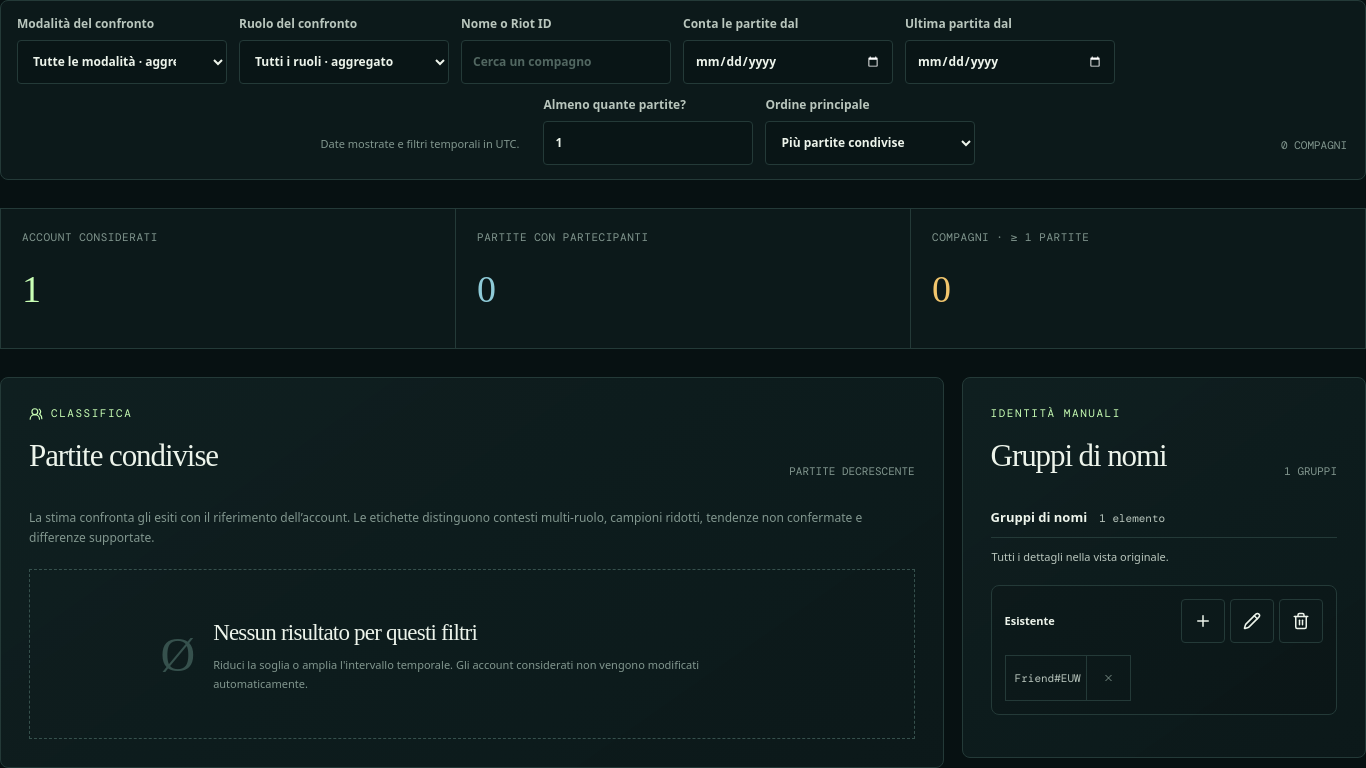
Test: conferme dei gruppi › conserva il modulo per rename dopo200 incompleto e riprova solo su richiesta
The image size is (1366, 768).
(page scrolled)
Click the button named "Rinomina Esistente": (1252, 621) [1230, 599, 1274, 643]
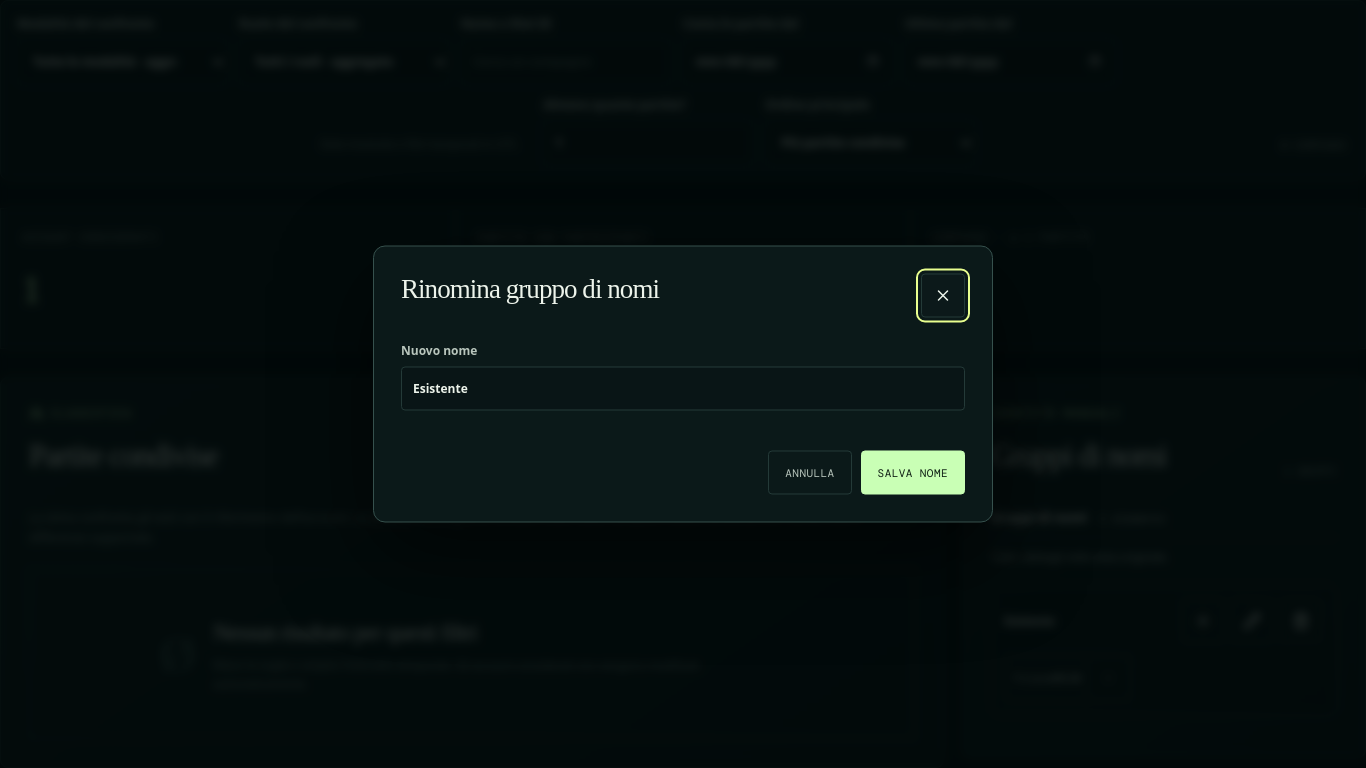
Replace the text in the field labelled "Nuovo nome" with "Nome aggiornato": (683, 388) [401, 366, 965, 410]
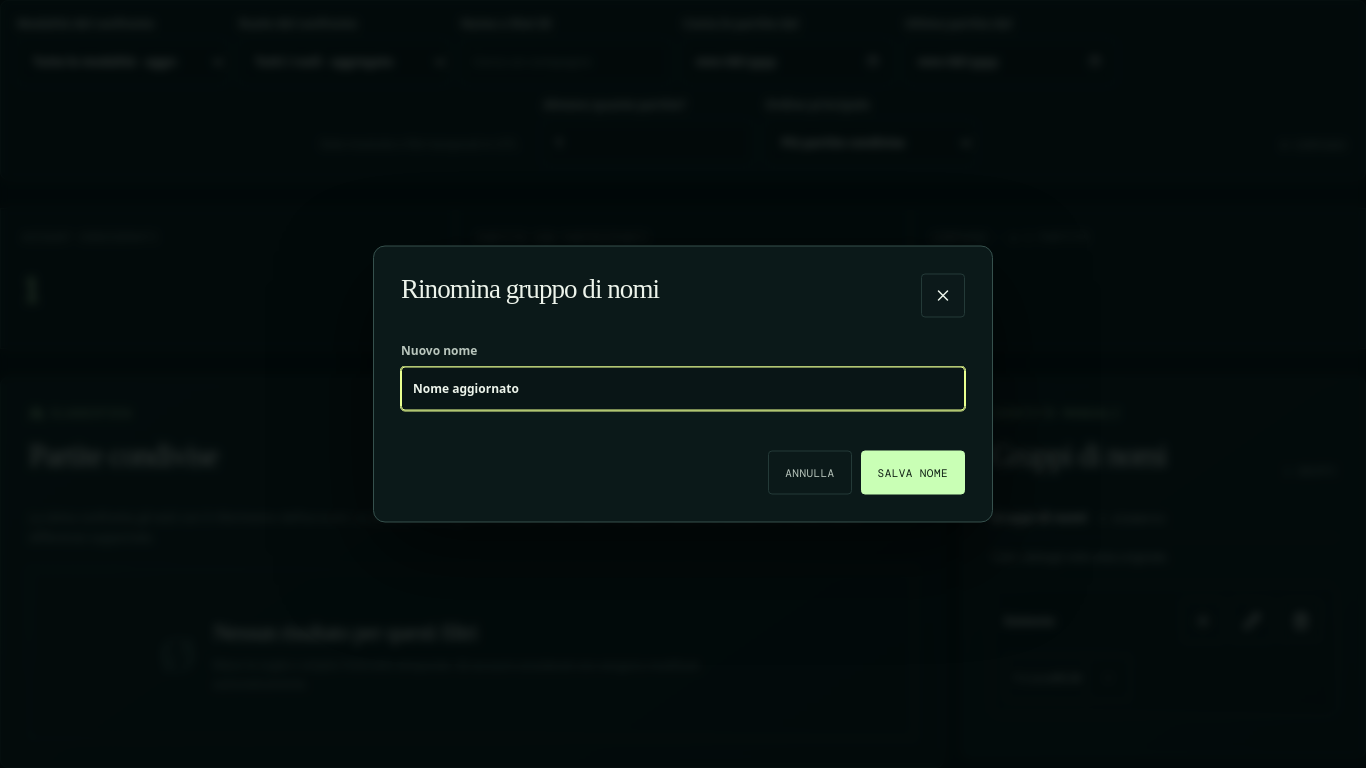
Click the button "Salva nome": (913, 472) [861, 450, 965, 494]
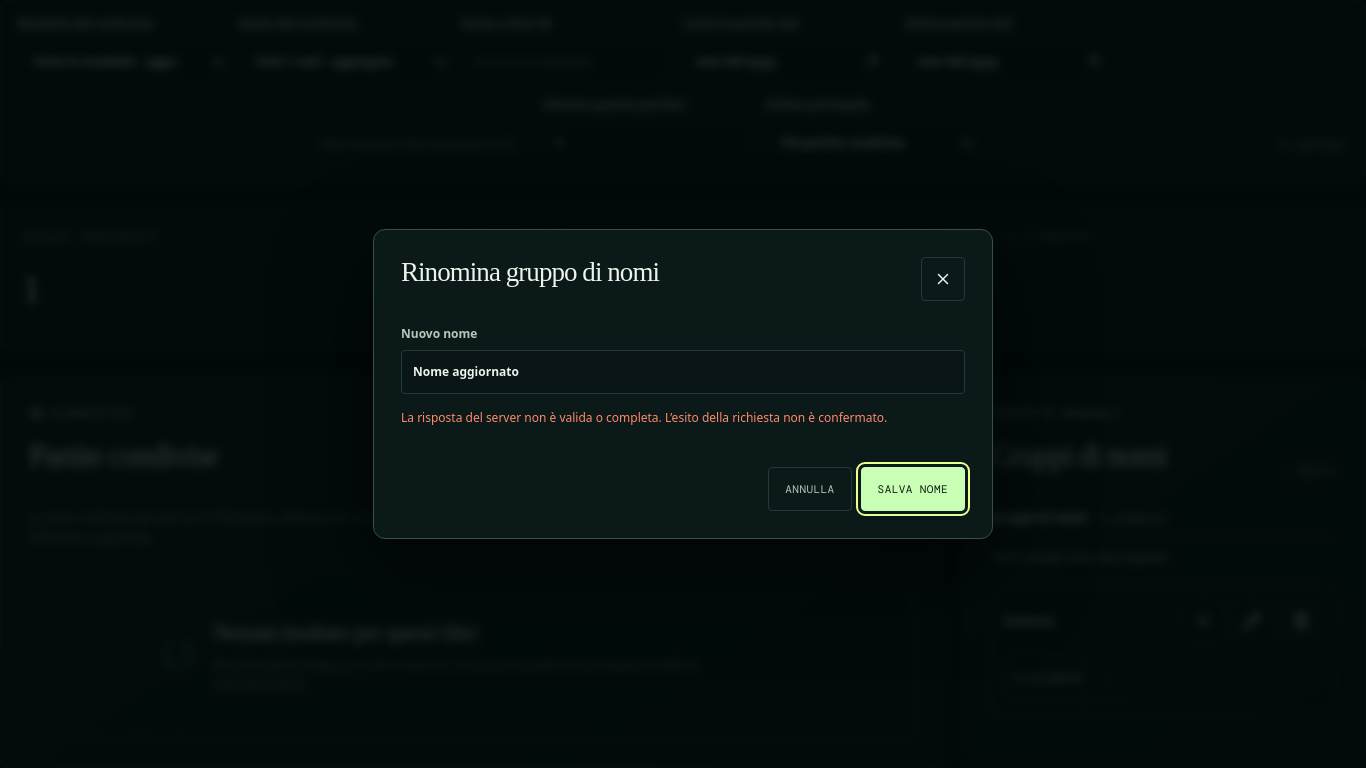
Result: the button "Salva nome" is enabled
Result: the message shows "L’esito della richiesta non è confermato" at [401, 409, 887, 426]
Click the button "Salva nome": (913, 489) [861, 467, 965, 511]
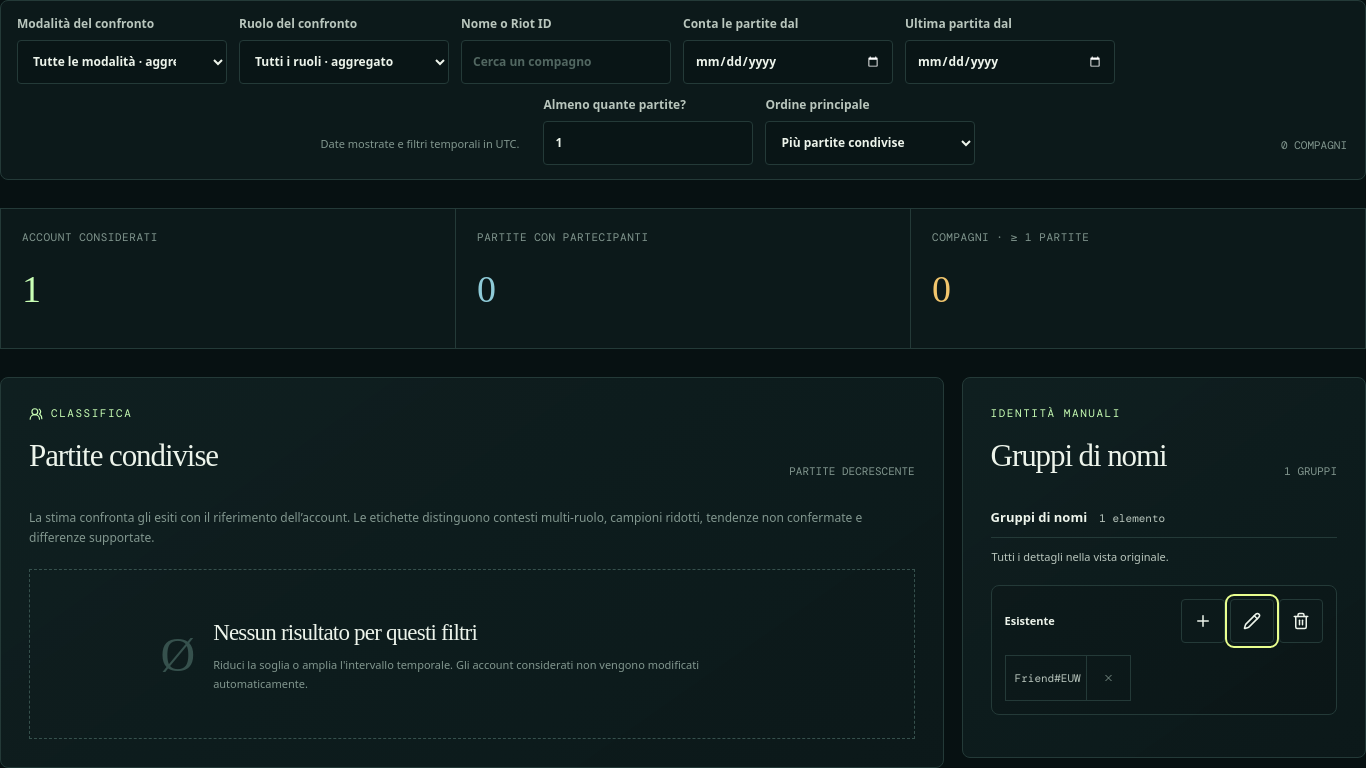
Result: the dialog is gone
